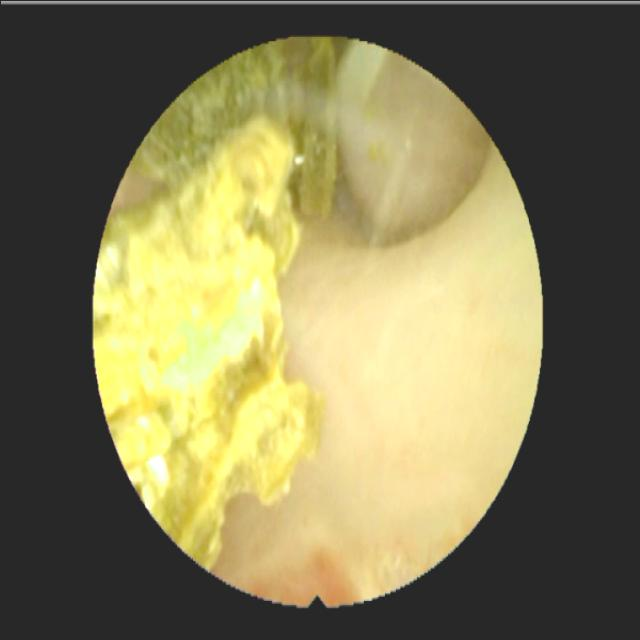stone: (99, 43, 335, 558)
